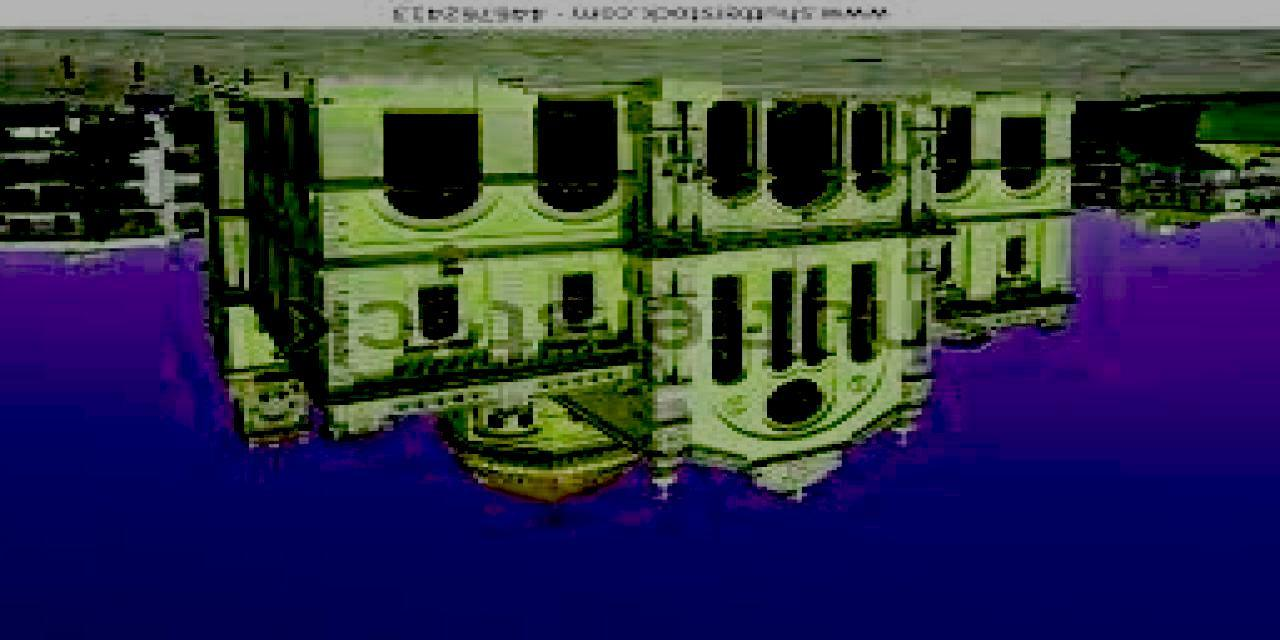Agios Minas: (197, 74, 1075, 517)
